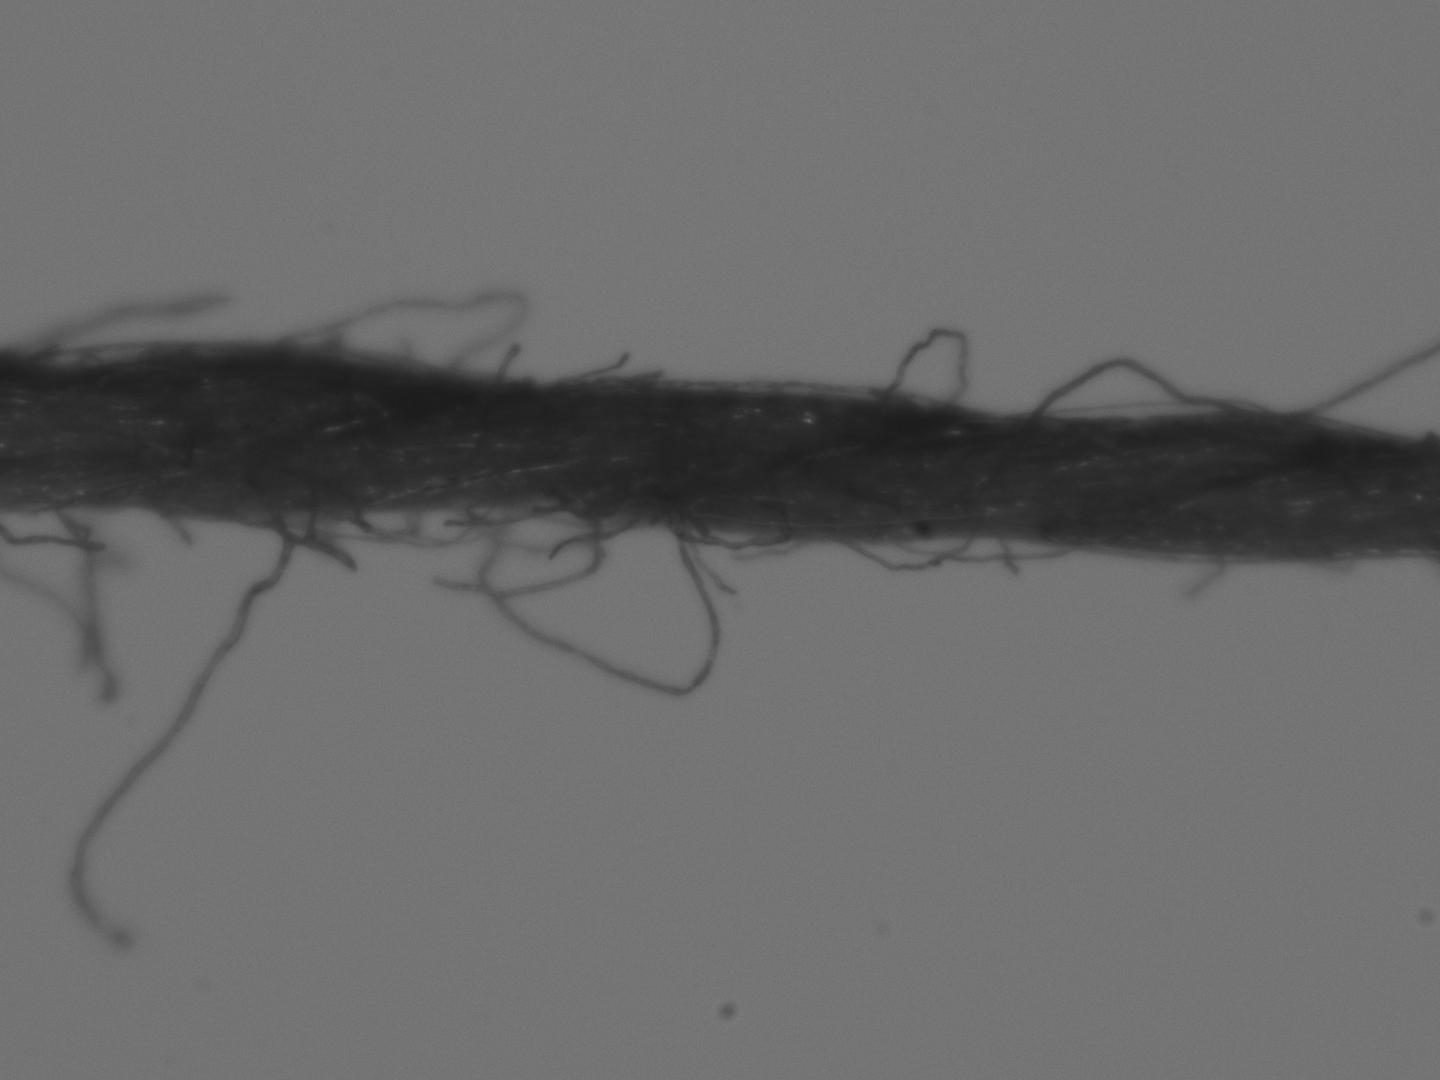loop_fiber: (206, 496, 805, 700), (2, 503, 133, 709), (276, 292, 533, 376), (1023, 353, 1265, 421), (1277, 343, 1437, 446), (831, 531, 1083, 576), (873, 324, 975, 415), (12, 337, 293, 361)
protruding_fiber: (67, 511, 294, 951), (429, 497, 607, 599), (3, 289, 226, 348), (552, 346, 634, 381), (1179, 550, 1230, 604), (152, 507, 200, 548), (494, 338, 524, 378)
